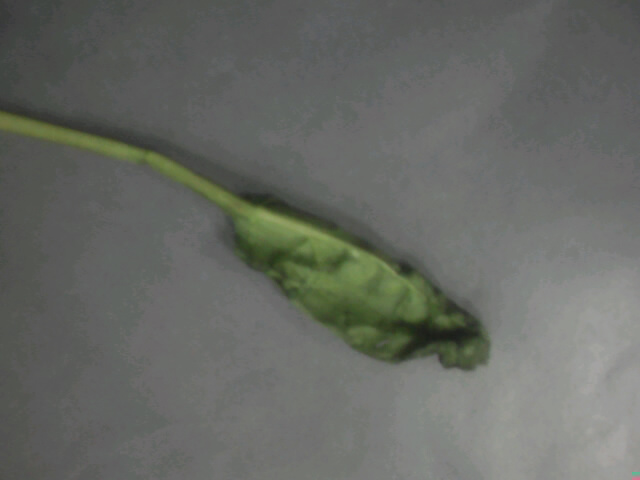yellow: (138, 156, 495, 380)
